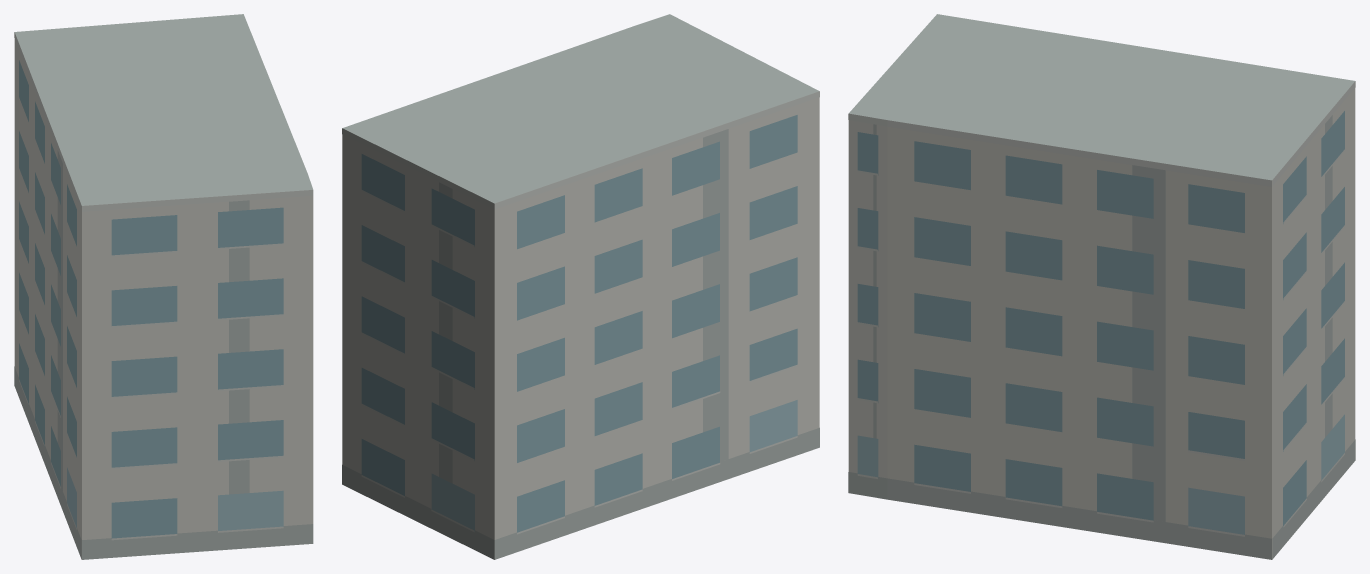
File: survey-upis-33030654.glb
3 renders of one model, left to right at view 1: azimuth 30°, elevation 25°; view 2: azimuth 150°, elevation 25°; view 3: azimuth 270°, elevation 25°, orthographic. The views are drawn at different scales.
Parts seen in each view (by area): view 1: survey-upis-33030654.tmp; view 2: survey-upis-33030654.tmp; view 3: survey-upis-33030654.tmp.
Part boxes in pixels (box(x1,y1,x2,y2)): survey-upis-33030654.tmp: box(14, 14, 313, 559); survey-upis-33030654.tmp: box(342, 14, 819, 559); survey-upis-33030654.tmp: box(848, 14, 1355, 559).
Bounding box in the file's own units: 13.36 × 14.2 × 17.2.
